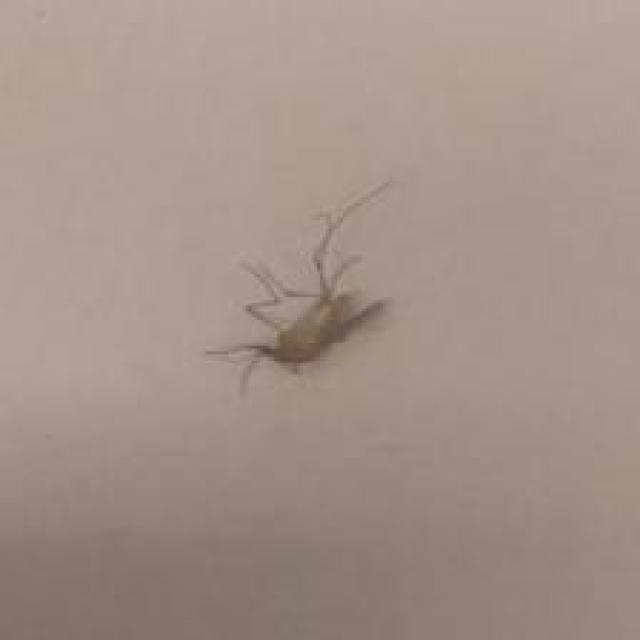Culex: (204, 174, 396, 397)
